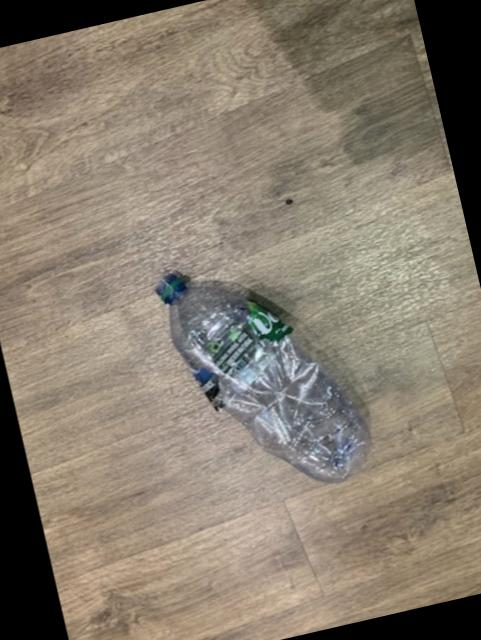plastic: (157, 274, 372, 484)
